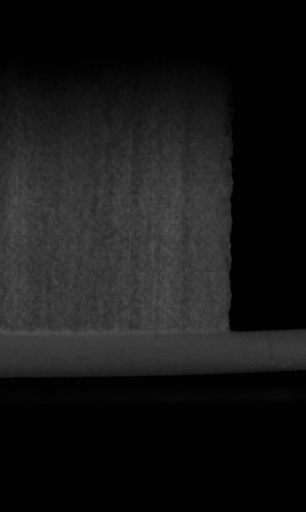changdai: (227, 327, 305, 375)
